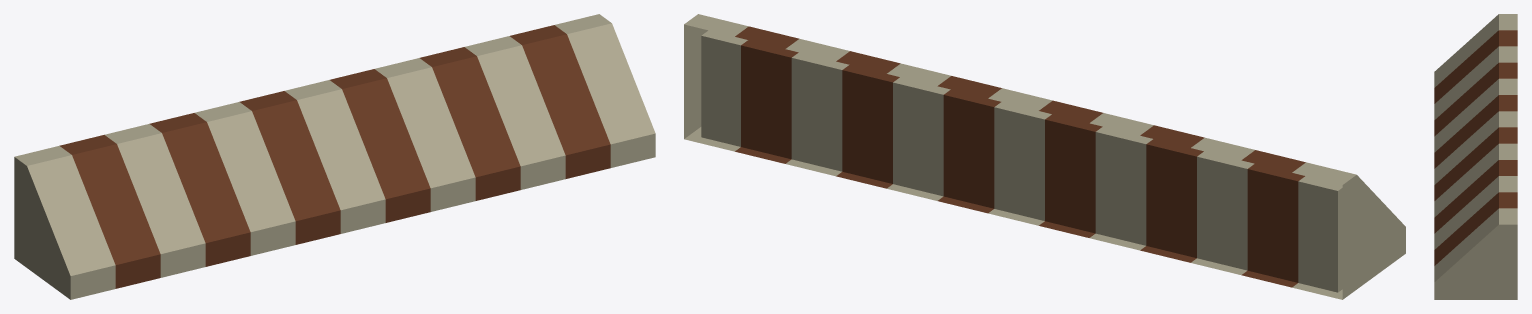
File: PS_Awning.fbx
3 views of the same model, side by side, from view 1: azimuth 30°, elevation 25°; view 2: azimuth 150°, elevation 25°; view 3: azimuth 270°, elevation 25° (orthographic). The views are drawn at different scales.
Parts seen in each view (by area): view 1: PS_Awning; view 2: PS_Awning; view 3: PS_Awning.
Boxes of the visible parts, box(x1,y1,x2,y2) form: PS_Awning: box(14, 14, 655, 299); PS_Awning: box(684, 14, 1405, 299); PS_Awning: box(1434, 14, 1517, 299).
Bounding box in the file's own units: 6 × 1 × 1.
